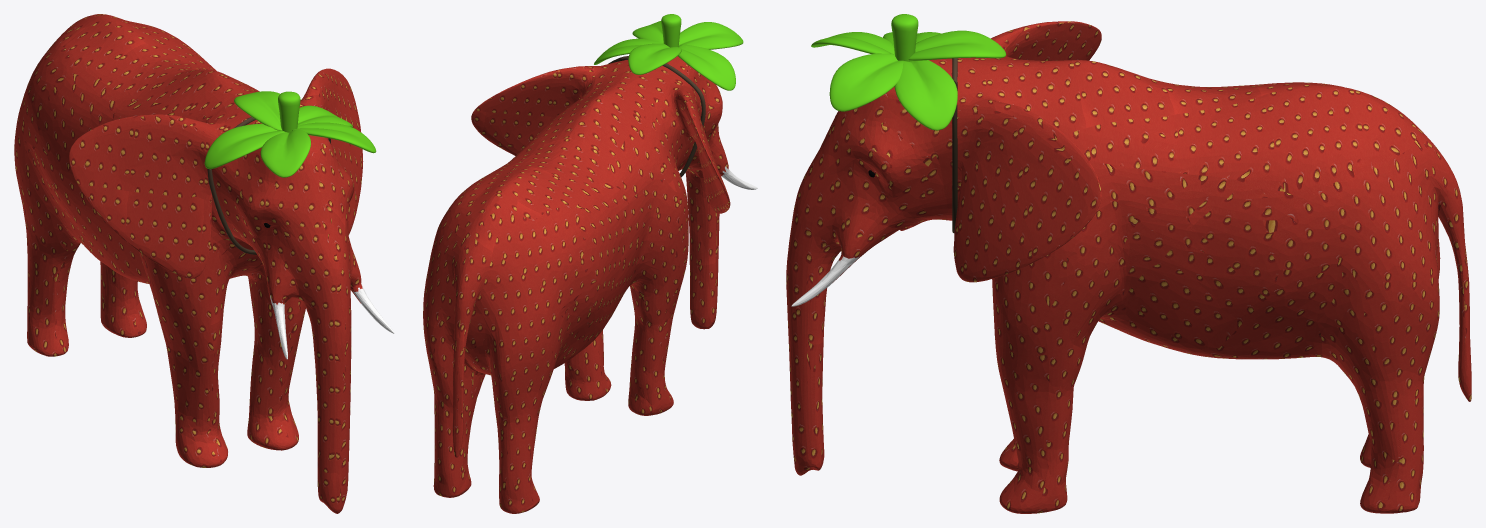
Rendered from StrawberryElephant.fbx.
3 renders of one model, left to right at view 1: azimuth 30°, elevation 25°; view 2: azimuth 150°, elevation 25°; view 3: azimuth 270°, elevation 25°, orthographic. The views are drawn at different scales.
Visible parts, largest first — view 1: ElephantInsanity; view 2: ElephantInsanity; view 3: ElephantInsanity.
Part boxes in pixels (box(x1,y1,x2,y2)): ElephantInsanity: box(14, 14, 394, 513); ElephantInsanity: box(423, 14, 757, 513); ElephantInsanity: box(786, 14, 1471, 513).
Bounding box in the file's own units: 2695 × 3609 × 4796.
2 materials, 2 textured.
